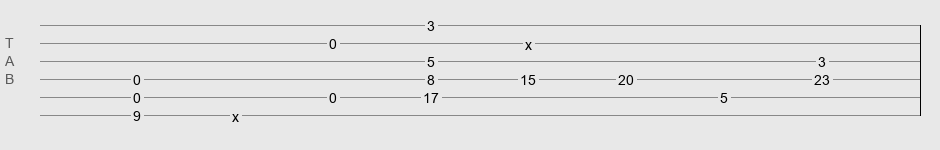0: (133, 72, 141, 82), (133, 90, 141, 100), (329, 90, 337, 100), (329, 36, 337, 46)
15: (520, 72, 536, 82)
17: (423, 90, 439, 100)
20: (618, 72, 634, 82)
23: (814, 72, 830, 82)
3: (427, 18, 435, 28), (818, 54, 826, 64)
5: (427, 54, 435, 64), (720, 90, 728, 100)
8: (427, 72, 435, 82)
9: (133, 108, 141, 118)
x: (232, 109, 239, 117), (525, 37, 532, 45)
